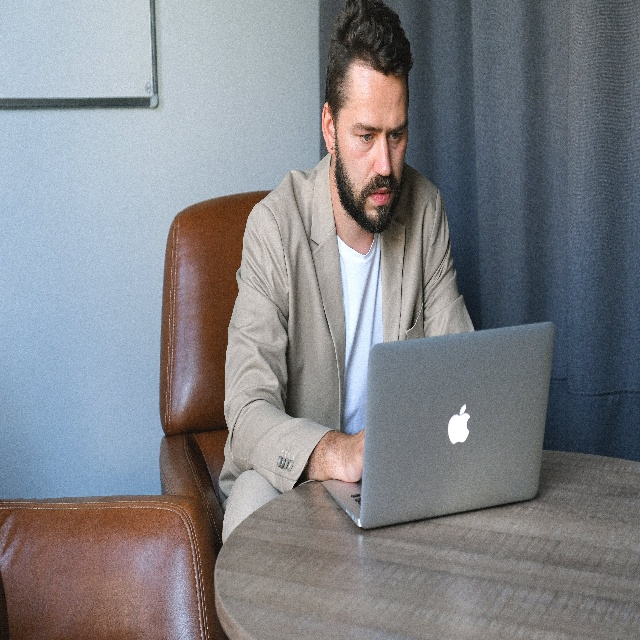Sin_guantes: (338, 431, 364, 483)
